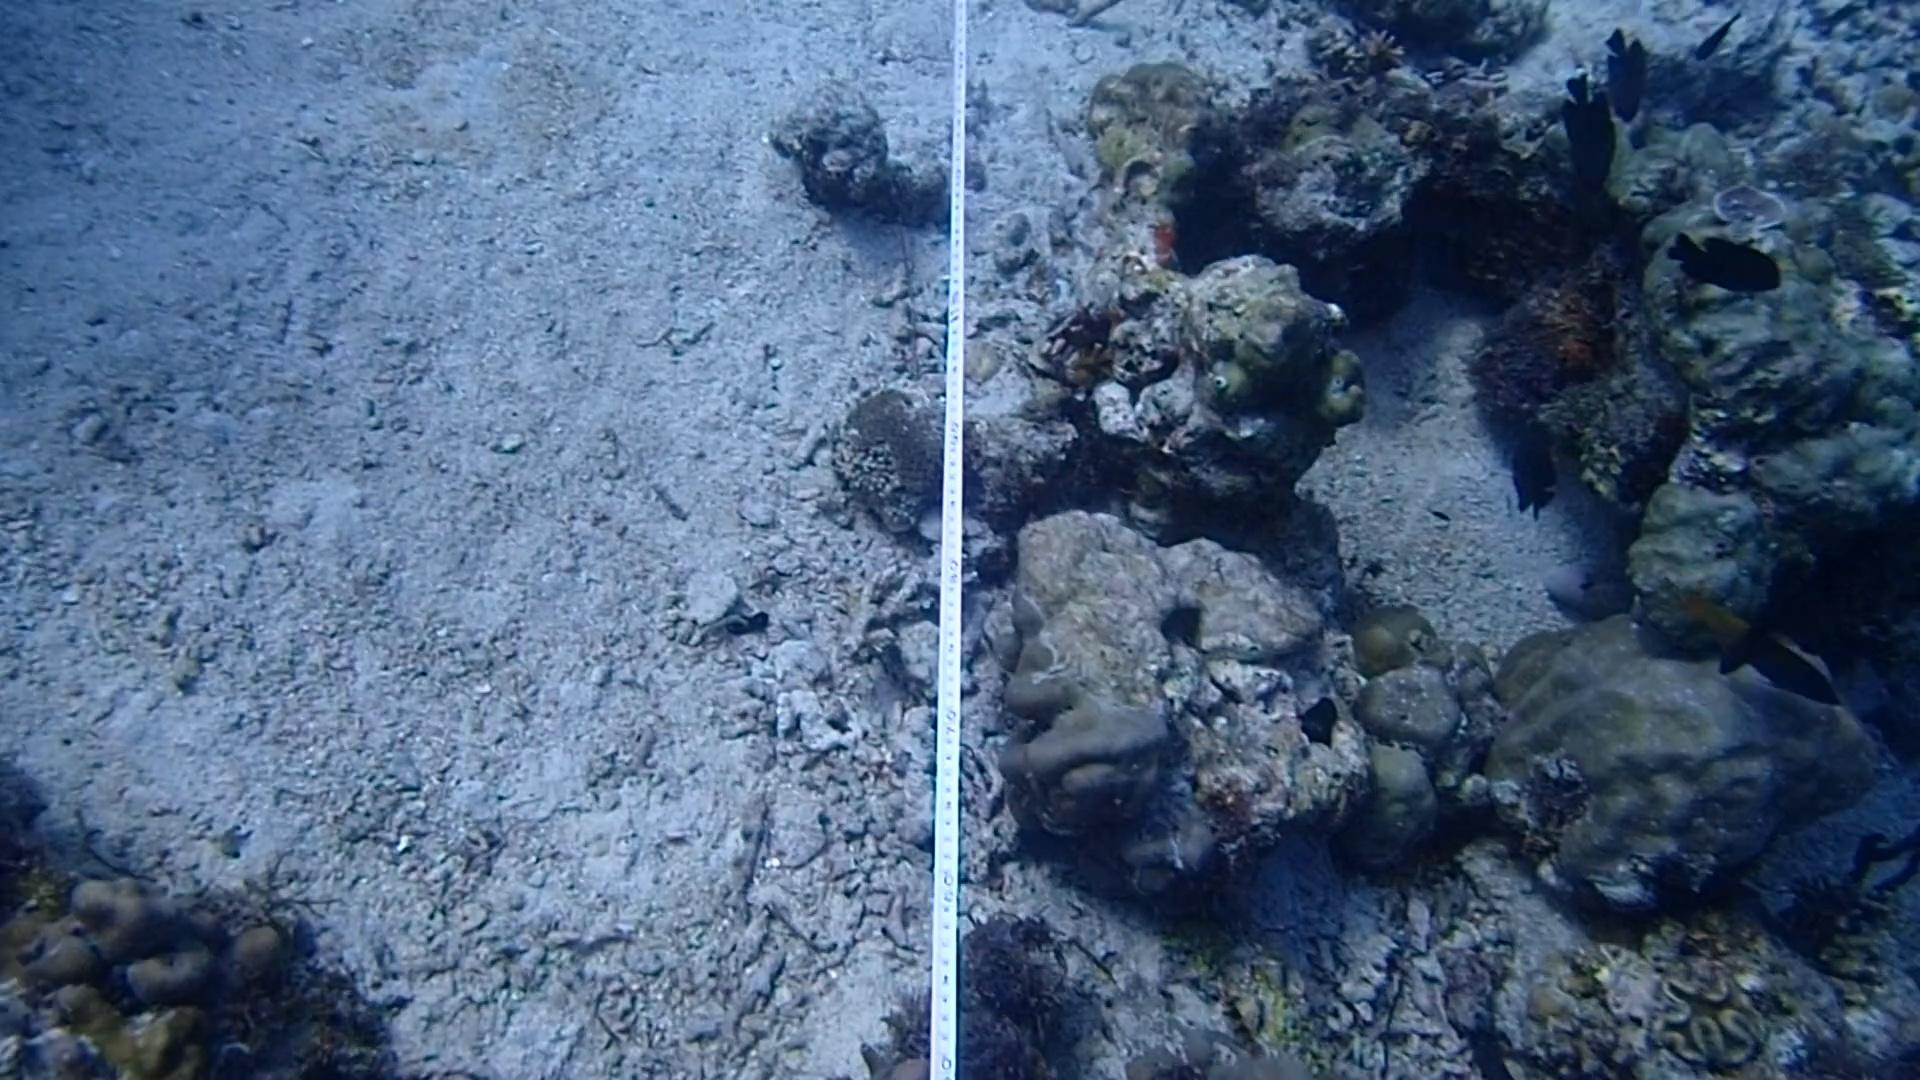Dark Fish: (1651, 214, 1793, 303), (1700, 583, 1811, 683), (1553, 62, 1626, 198), (1494, 417, 1575, 521), (1598, 15, 1659, 137), (1683, 3, 1742, 78)
Half Blue - Half Yellow: (1660, 574, 1847, 723)
